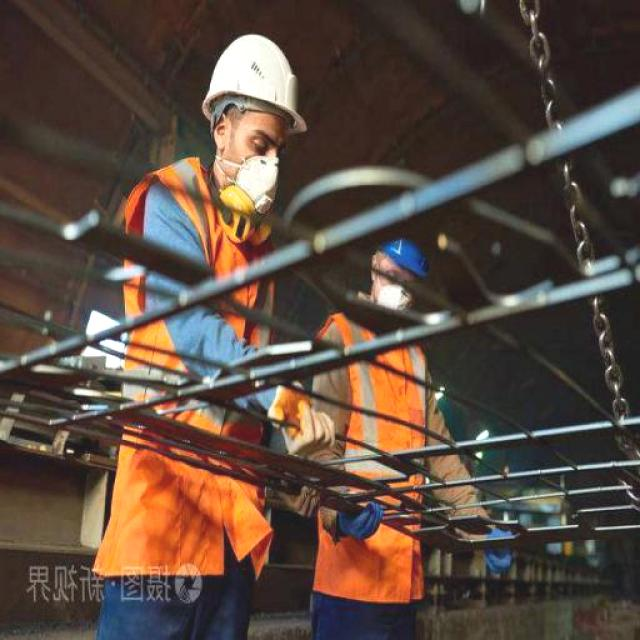face_mask: (219, 121, 293, 216), (369, 250, 417, 318)
hand_glove: (263, 380, 343, 458), (328, 487, 388, 544)
head_helmet: (198, 34, 312, 126), (362, 209, 434, 273)
person: (76, 27, 314, 640), (287, 217, 518, 640)
vest: (82, 161, 292, 581), (304, 322, 444, 603)
